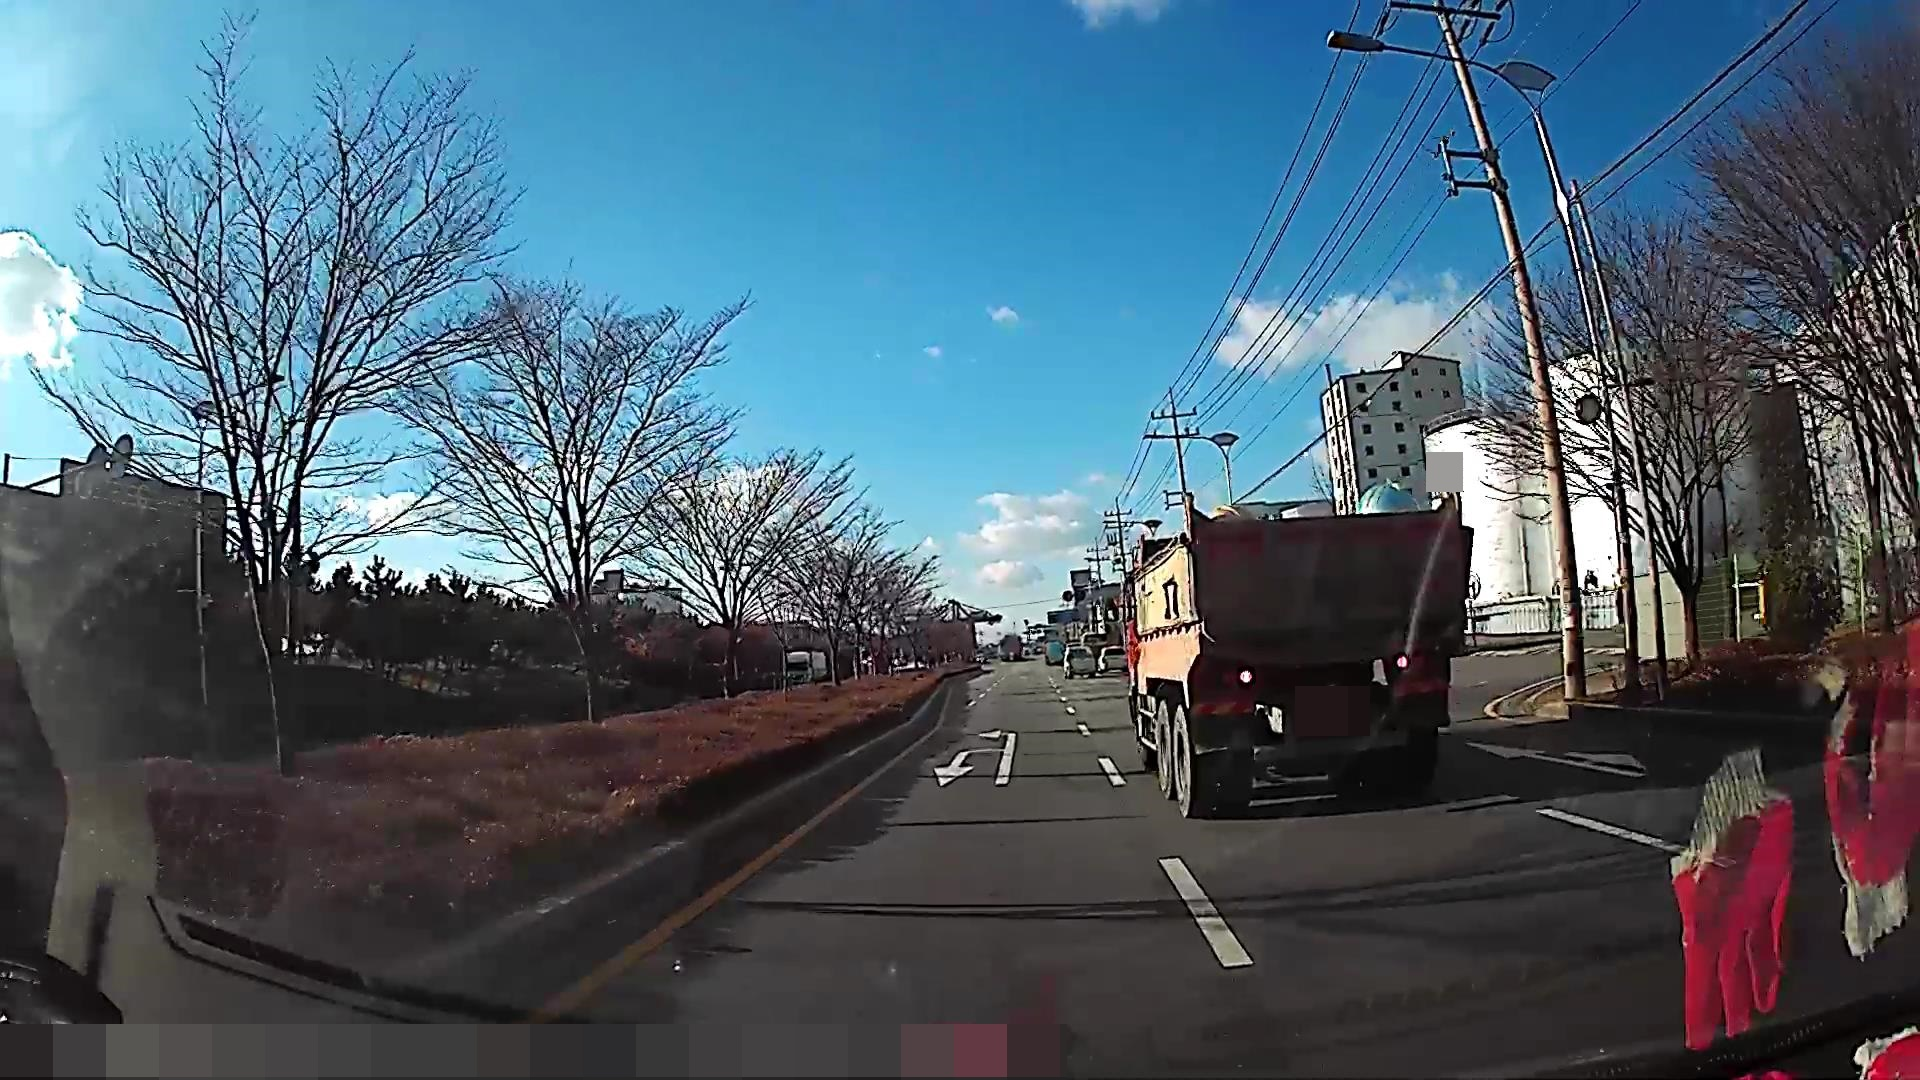불법차량: (1105, 483, 1474, 819)
